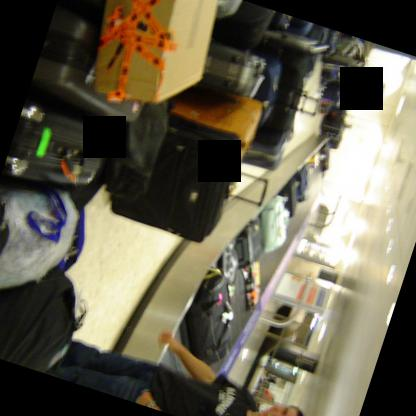backpack: (0, 271, 77, 375)
suitcase: (166, 12, 378, 386), (108, 110, 268, 246), (23, 9, 143, 125), (2, 108, 107, 185), (168, 89, 264, 164), (193, 41, 264, 102), (251, 26, 331, 80), (262, 63, 306, 130), (56, 0, 104, 27), (319, 82, 345, 106), (279, 179, 294, 218), (320, 114, 341, 135)
